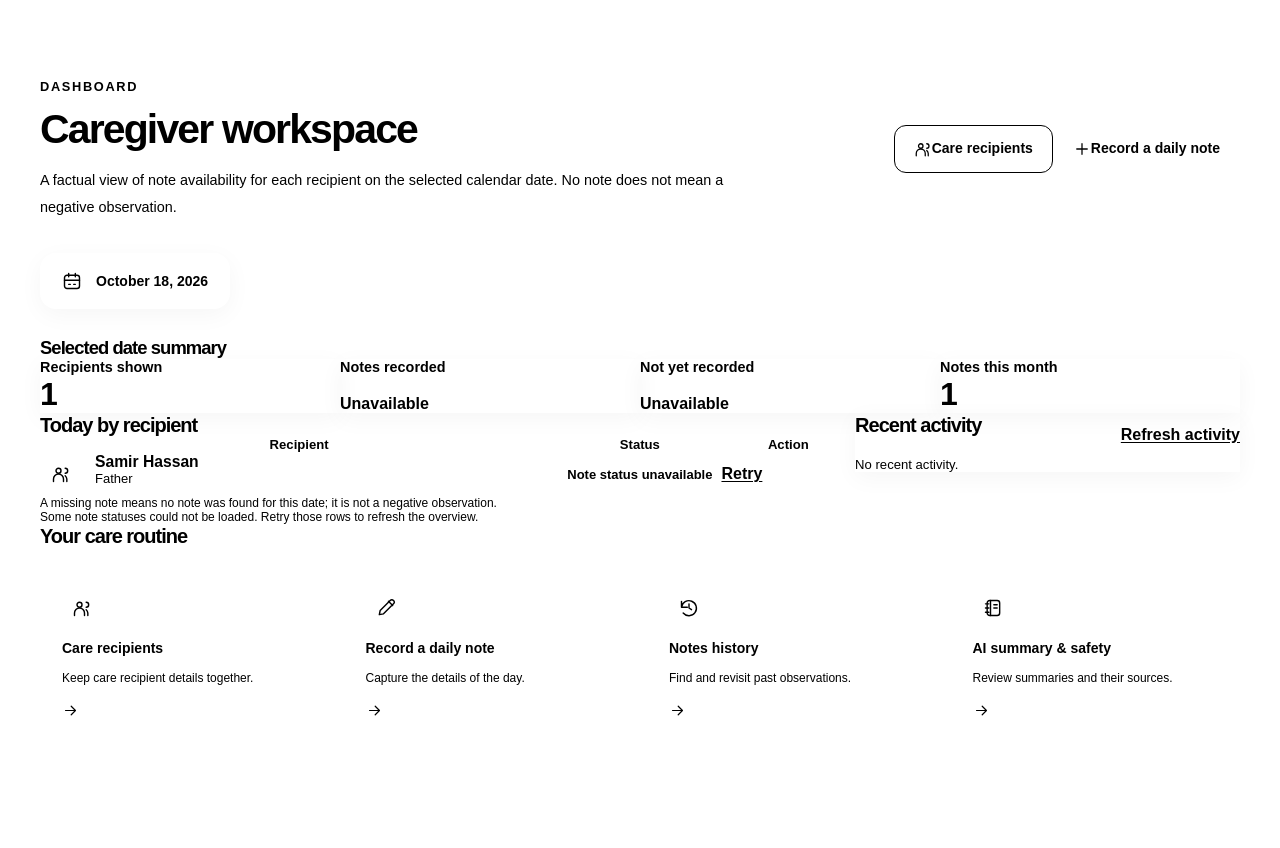
Scenario: month-to-date notes metric › retries the overview without reloading the successful month-to-date widget
(page scrolled)
expect the text "1" is shown: met, box [940,376,958,412]
expect the text "Note status unavailable" is shown: met, box [567,467,712,482]
Click the button "Retry": coordinates (742, 474) [722,452,762,496]
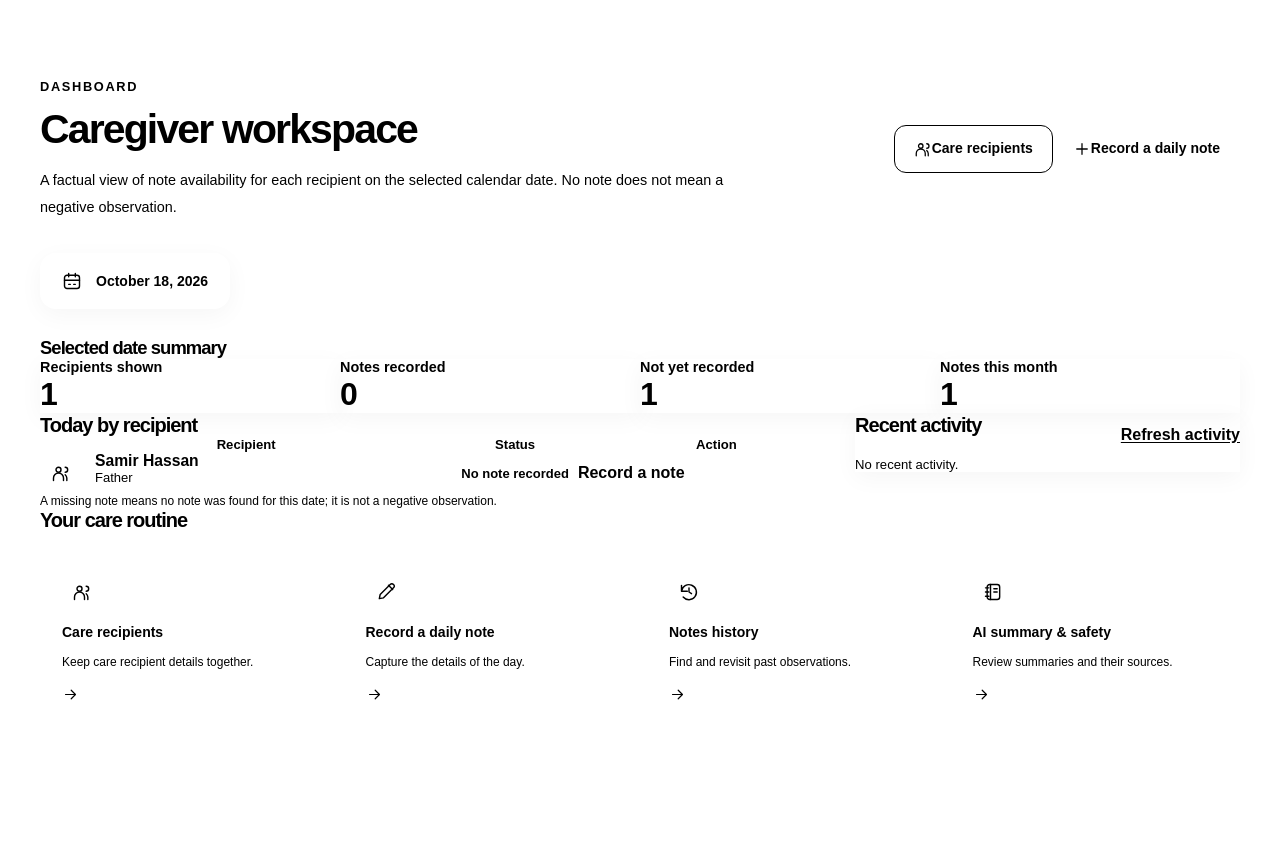
expect the text "1" is shown: met, box [940,376,958,412]
expect the text "No note recorded" is shown: met, box [461,466,569,481]
